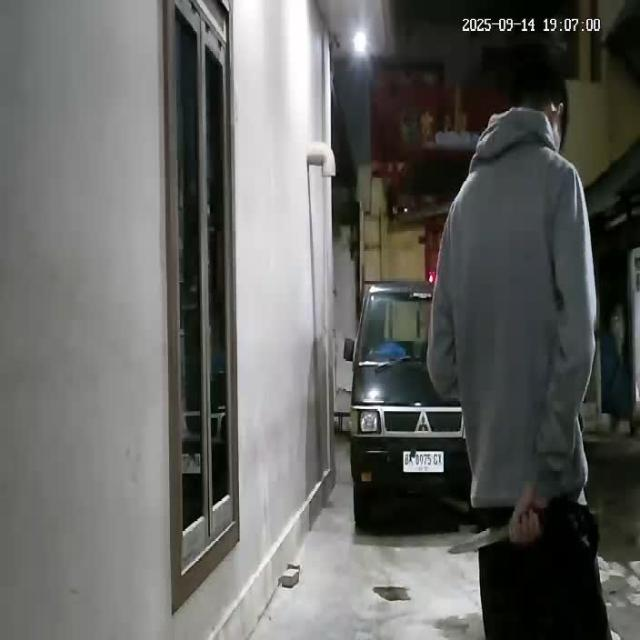senjata_tajam: (446, 521, 512, 557)
